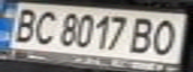0: (75, 11, 96, 50)
1: (90, 11, 112, 51)
7: (106, 12, 133, 52)
8: (54, 10, 81, 47)
B: (124, 15, 163, 55), (6, 6, 42, 43)
C: (27, 8, 60, 46)
O: (145, 16, 187, 56)
